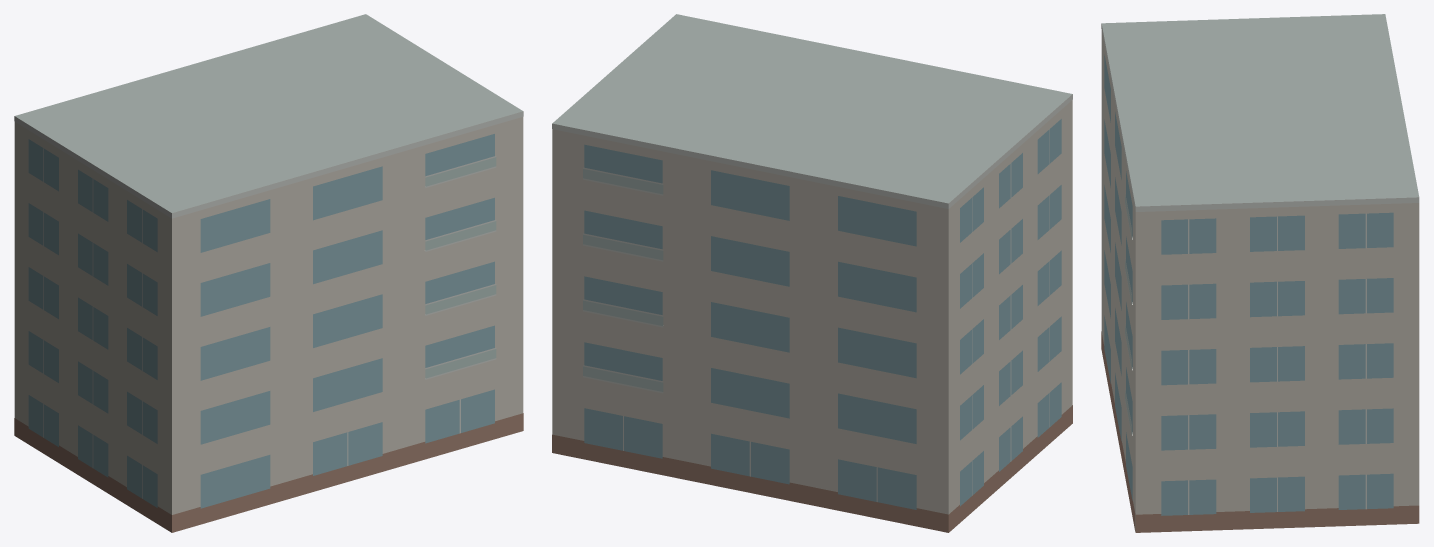
Rendered from survey-upis-32759018.glb.
3 views of the same model, side by side, from view 1: azimuth 30°, elevation 25°; view 2: azimuth 150°, elevation 25°; view 3: azimuth 270°, elevation 25° (orthographic). The views are drawn at different scales.
Visible parts, largest first — view 1: survey-upis-32759018.tmp; view 2: survey-upis-32759018.tmp; view 3: survey-upis-32759018.tmp.
Boxes of the visible parts, bbox=[...] form: survey-upis-32759018.tmp: bbox=[14, 14, 523, 532]; survey-upis-32759018.tmp: bbox=[552, 14, 1072, 532]; survey-upis-32759018.tmp: bbox=[1101, 14, 1419, 532].
Size of the model in its own units: 18.24 by 14.4 by 12.72.
